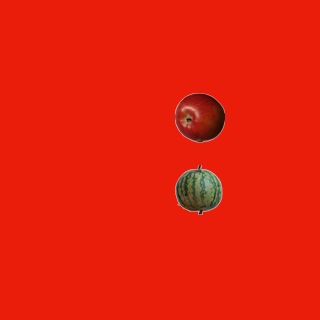Apple Braeburn: (174, 92, 224, 142)
Watermelon: (173, 164, 223, 214)
